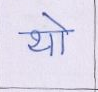o_matra: (58, 19, 68, 55)
